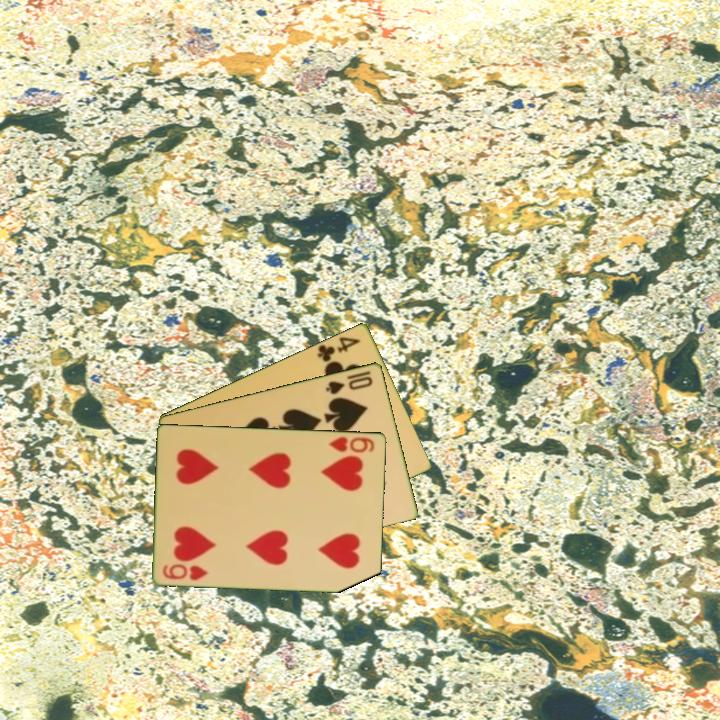10s: (322, 367, 376, 397)
4c: (314, 333, 364, 365)
6h: (159, 560, 211, 583), (326, 433, 377, 455)
